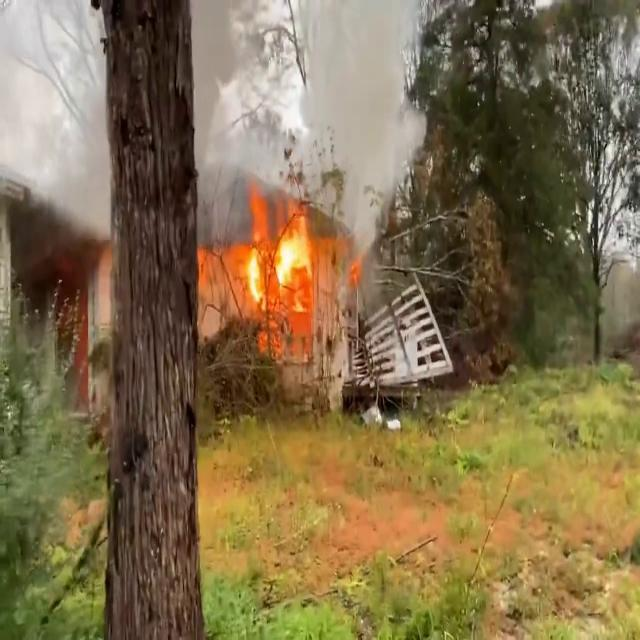Fire: (228, 209, 322, 320)
Smoke: (194, 0, 428, 225)
